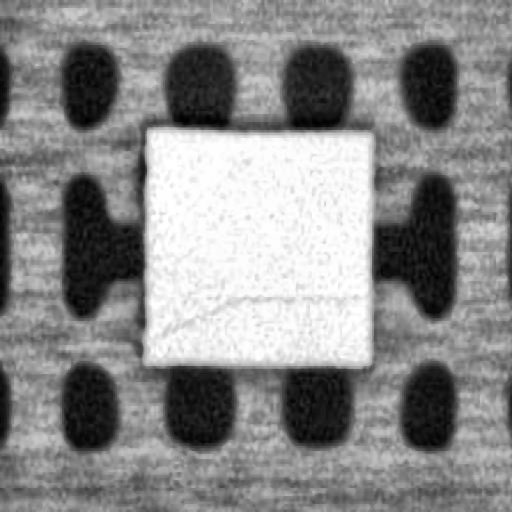DIE_CRACK: (150, 284, 362, 339)
